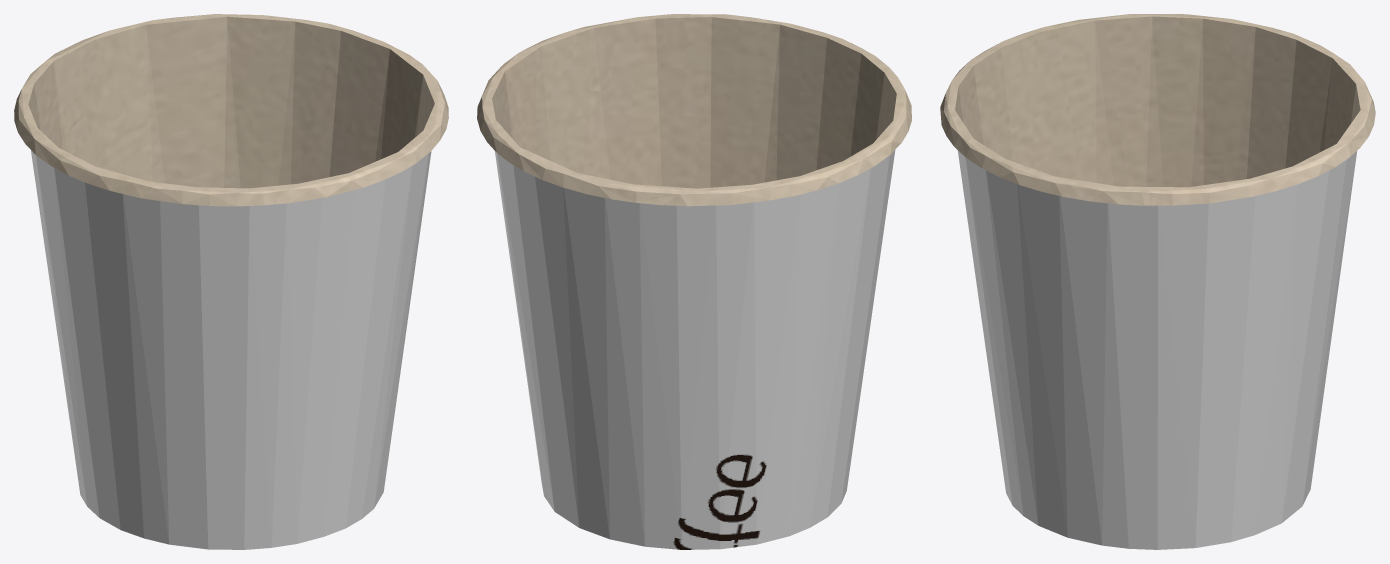
The model's file is coffee cup.gltf.
3 renders of one model, left to right at view 1: azimuth 30°, elevation 25°; view 2: azimuth 150°, elevation 25°; view 3: azimuth 270°, elevation 25°, orthographic.
Parts seen in each view (by area): view 1: Coffee Paper Cups.001; view 2: Coffee Paper Cups.001; view 3: Coffee Paper Cups.001.
Boxes of the visible parts, x1,y1,x2,y2 form: Coffee Paper Cups.001: (14, 14, 448, 549); Coffee Paper Cups.001: (477, 14, 911, 549); Coffee Paper Cups.001: (940, 14, 1375, 549).
Size of the model in its own units: 0.074 by 0.0719 by 0.0741.
Materials: 3 (2 with a texture image).
